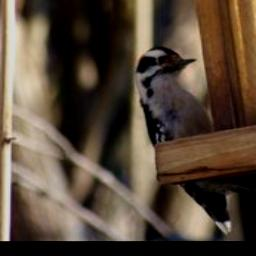Woodpecker: (135, 45, 256, 232)
